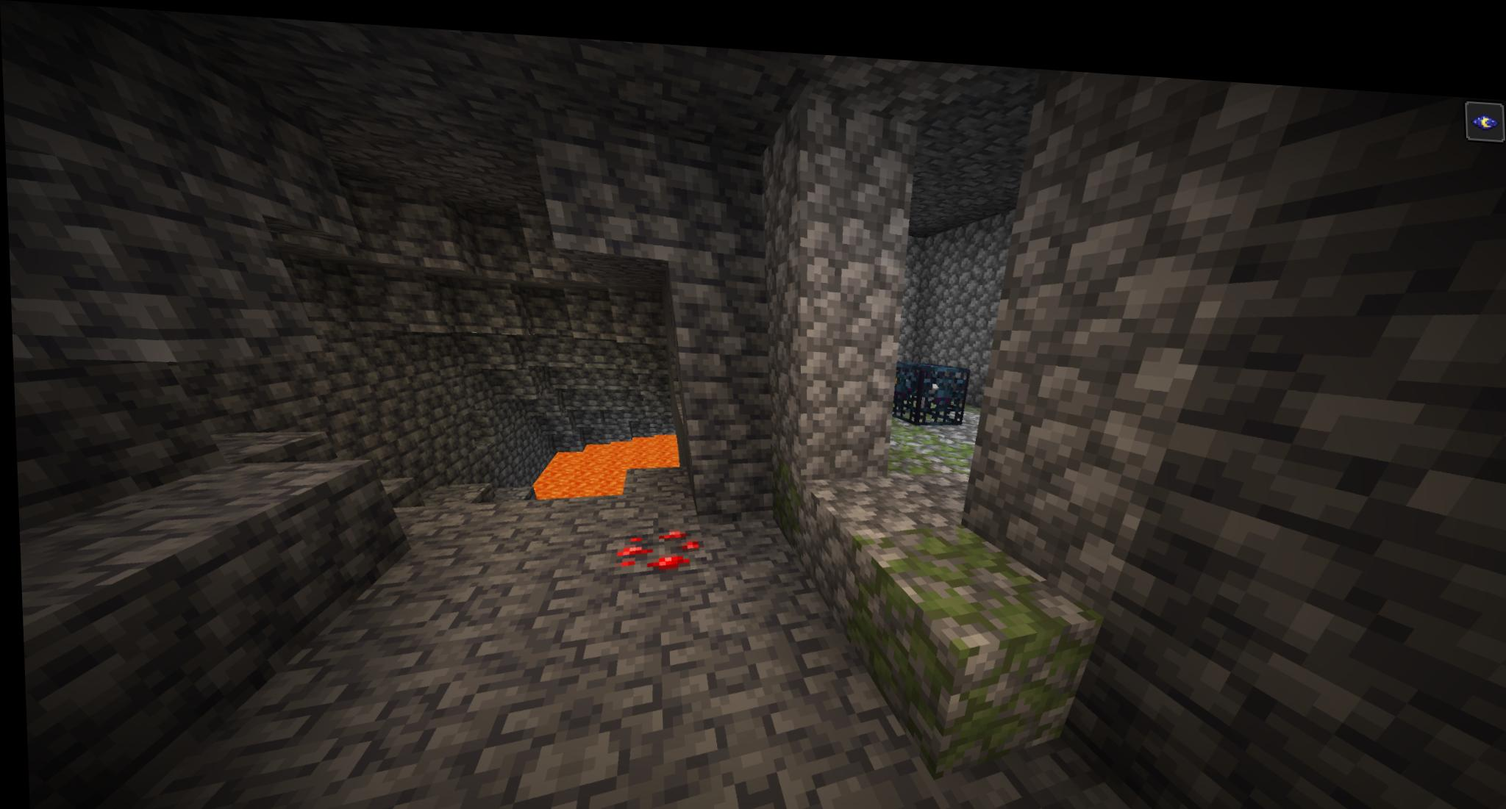redstone ore: (612, 518, 700, 566)
